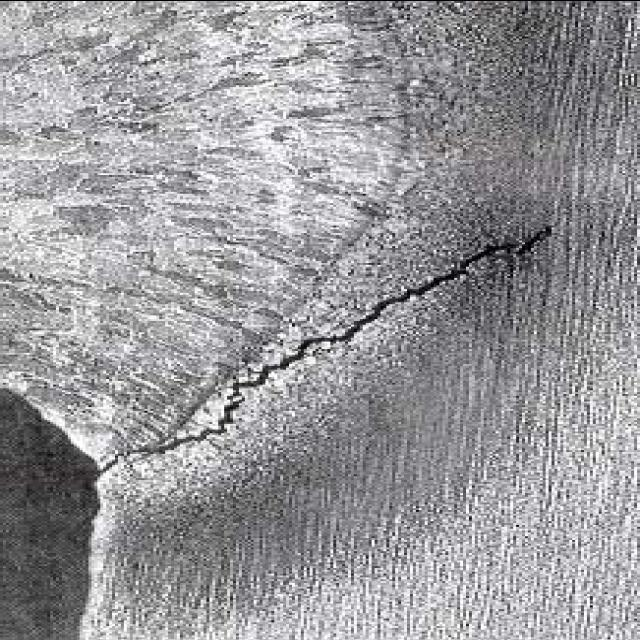defect: (95, 215, 569, 475)
